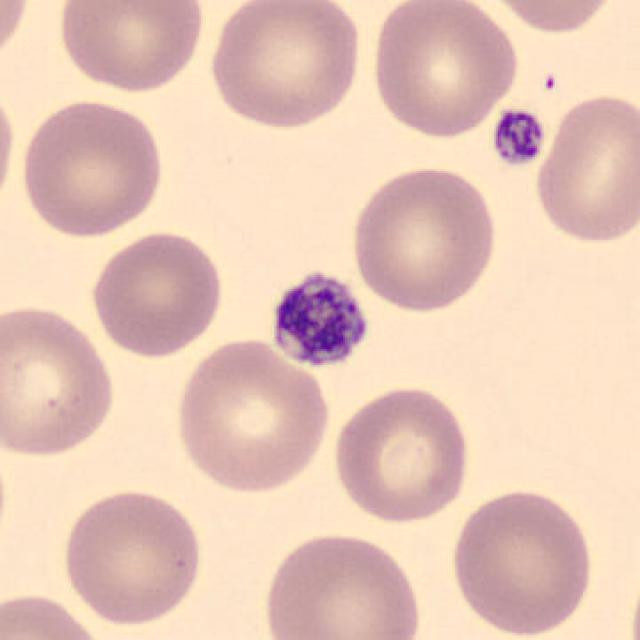Platelets: (267, 264, 373, 372), (487, 106, 548, 169)
RBC: (171, 333, 334, 497), (347, 160, 503, 316), (446, 485, 599, 638), (366, 0, 523, 141), (16, 95, 167, 240), (329, 381, 475, 527), (57, 485, 206, 628), (205, 0, 366, 132), (0, 298, 119, 462), (258, 527, 427, 640), (87, 228, 228, 360), (530, 88, 638, 247), (53, 0, 208, 95), (0, 589, 110, 640), (480, 0, 622, 37), (0, 81, 20, 217), (0, 0, 34, 74), (626, 552, 640, 640)
